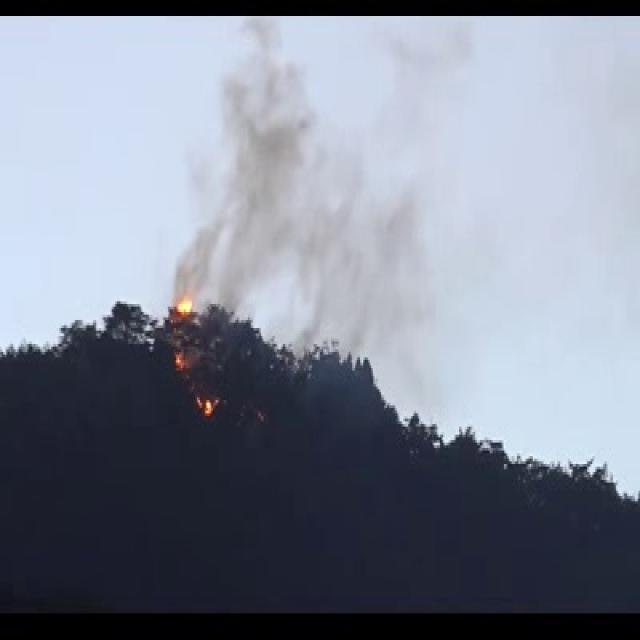smoke: (212, 76, 440, 312)
